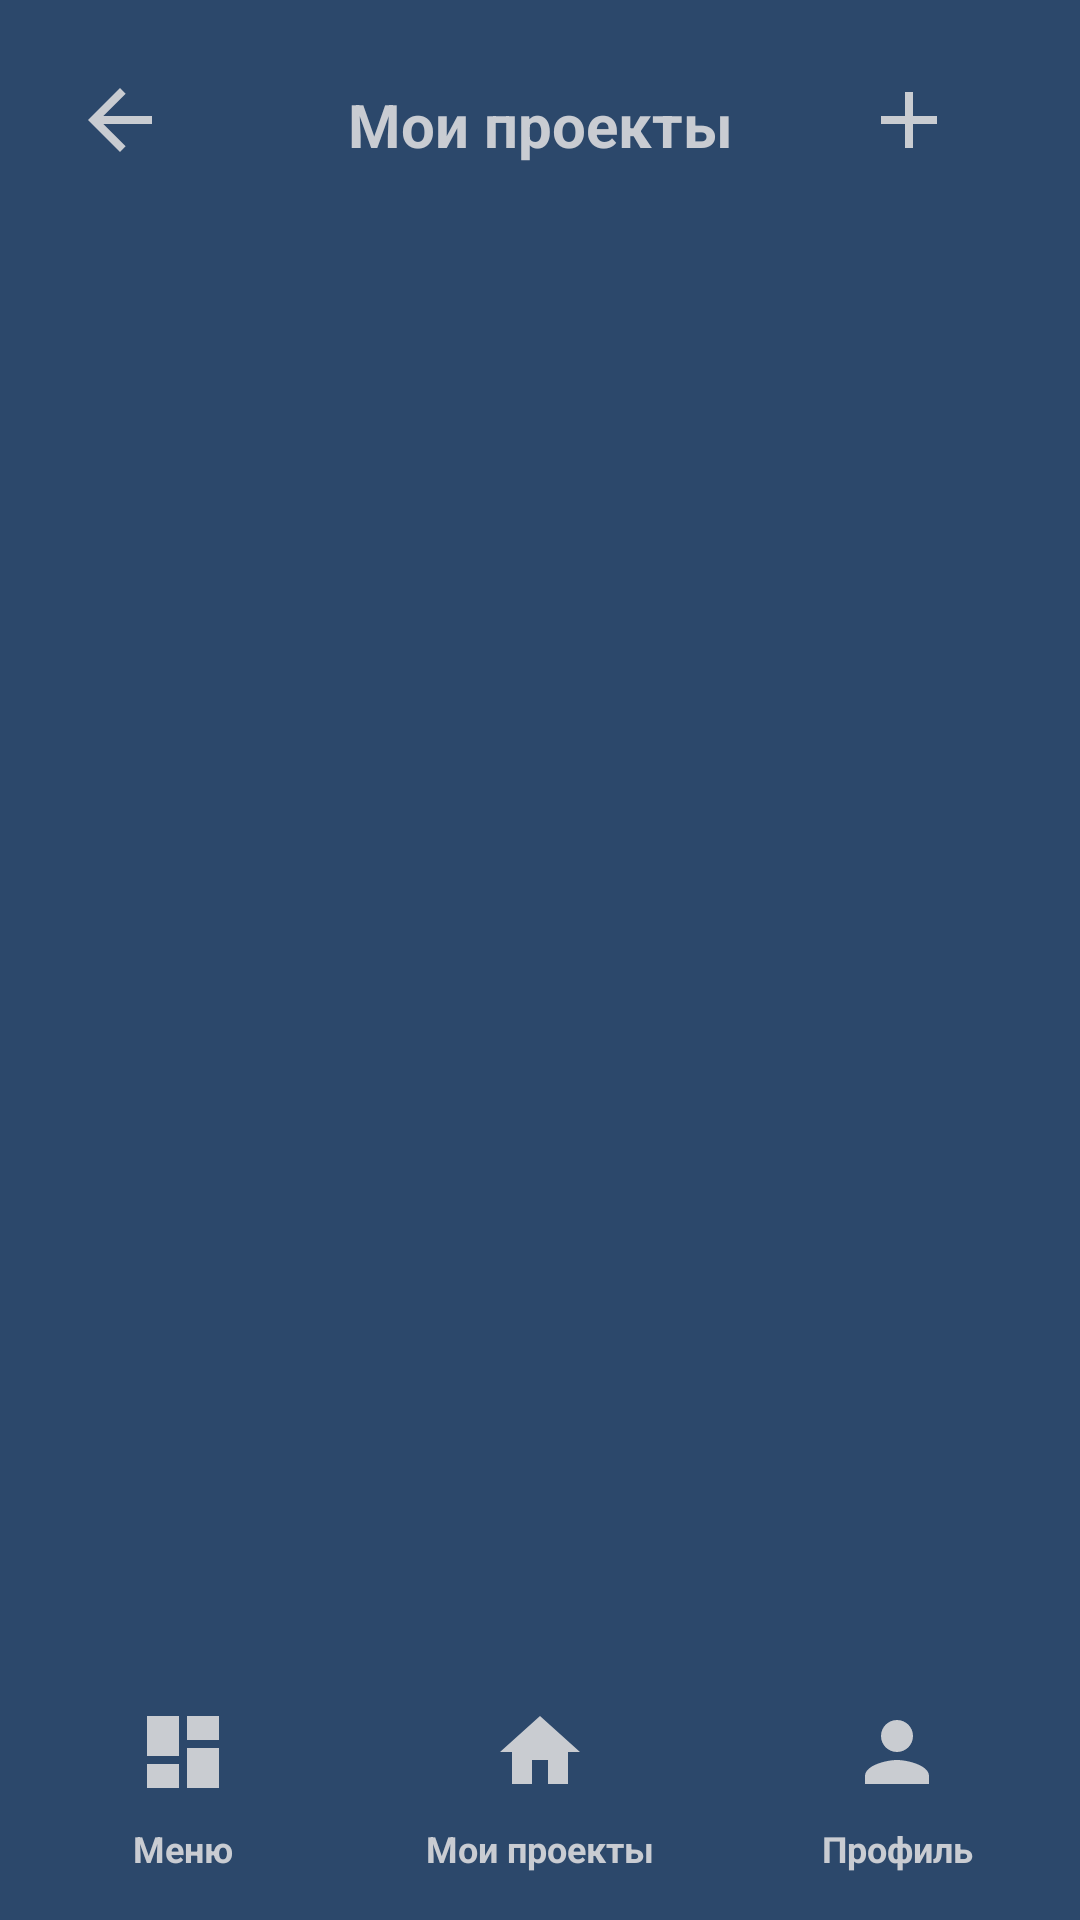

Icons on this 1080px x 1920px Android screen, each with its box as bbox=(x1, y1, x2, y2):
add: bbox=(881, 92, 937, 148)
arrow back: bbox=(88, 88, 152, 152)
home: bbox=(500, 1716, 580, 1784)
menu: bbox=(147, 1716, 219, 1788)
profile: bbox=(865, 1720, 929, 1784)
